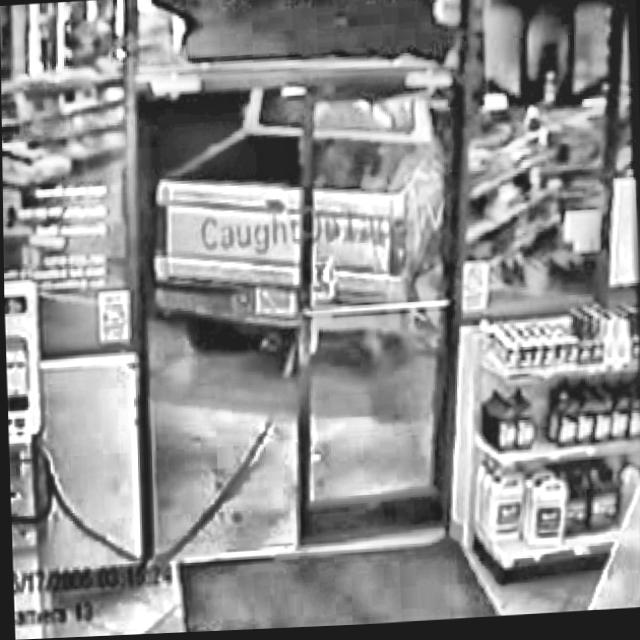burglary: (136, 67, 459, 403)
